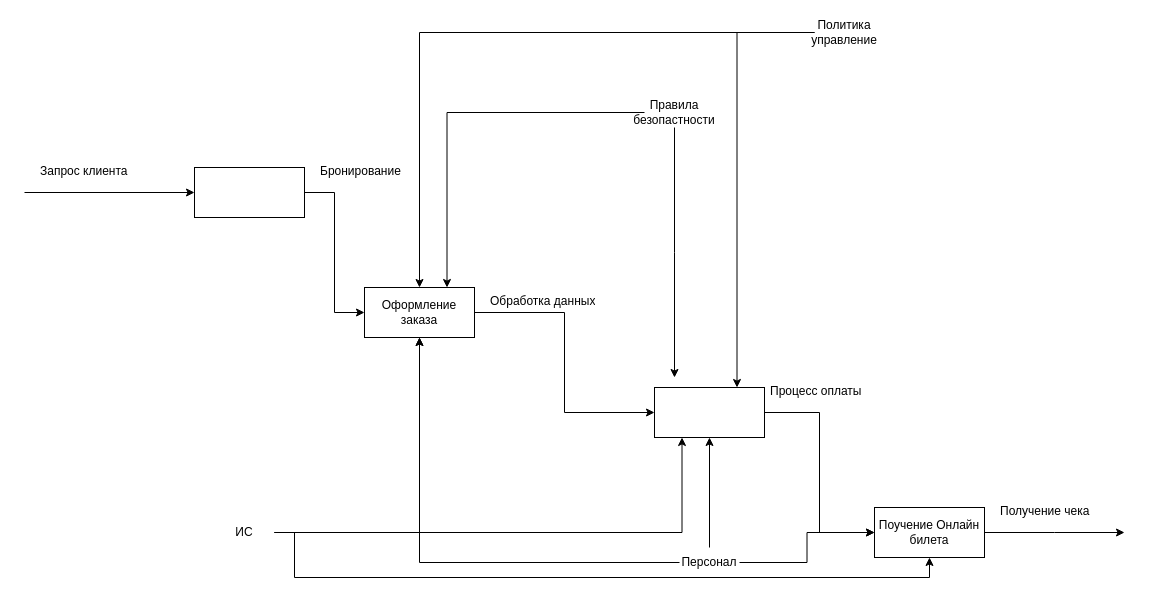
Some shapes in this 1162 by 603 pixel diagram are drawn without their labels. Here are the shapes that lost their labels. From the top down, the centre of each, then its label:
point (249, 192): Выбор фильма
point (709, 412): Оплата
